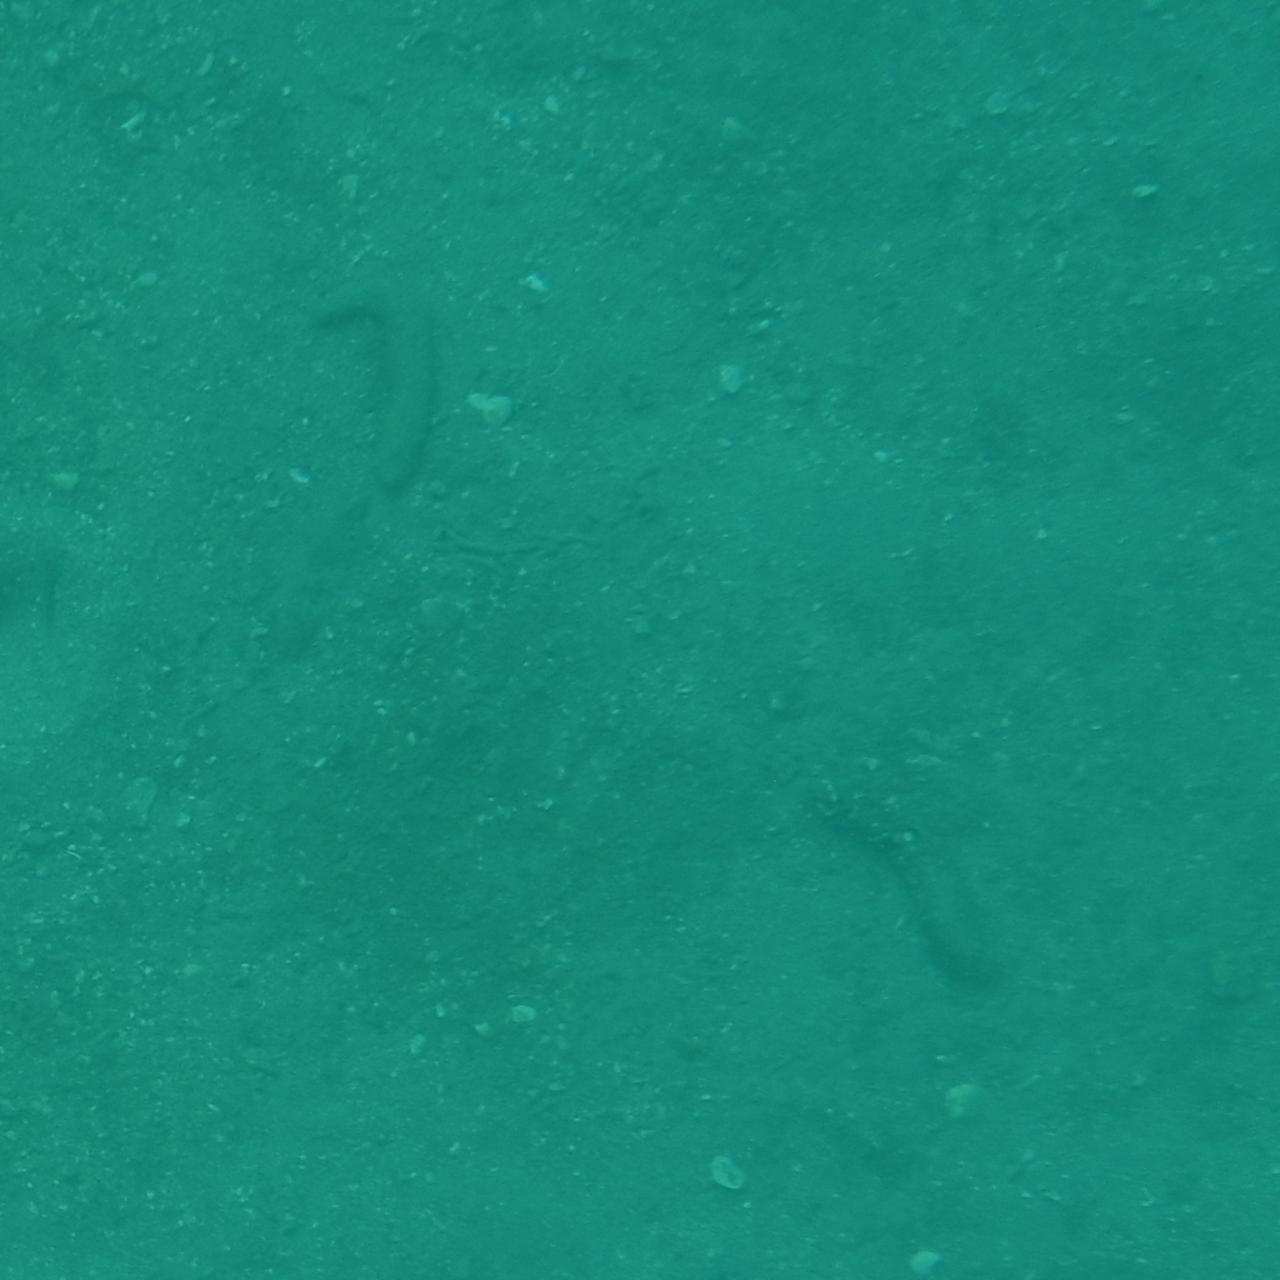Holothuria tubulosa: (830, 762, 1005, 1022), (286, 265, 442, 513)
